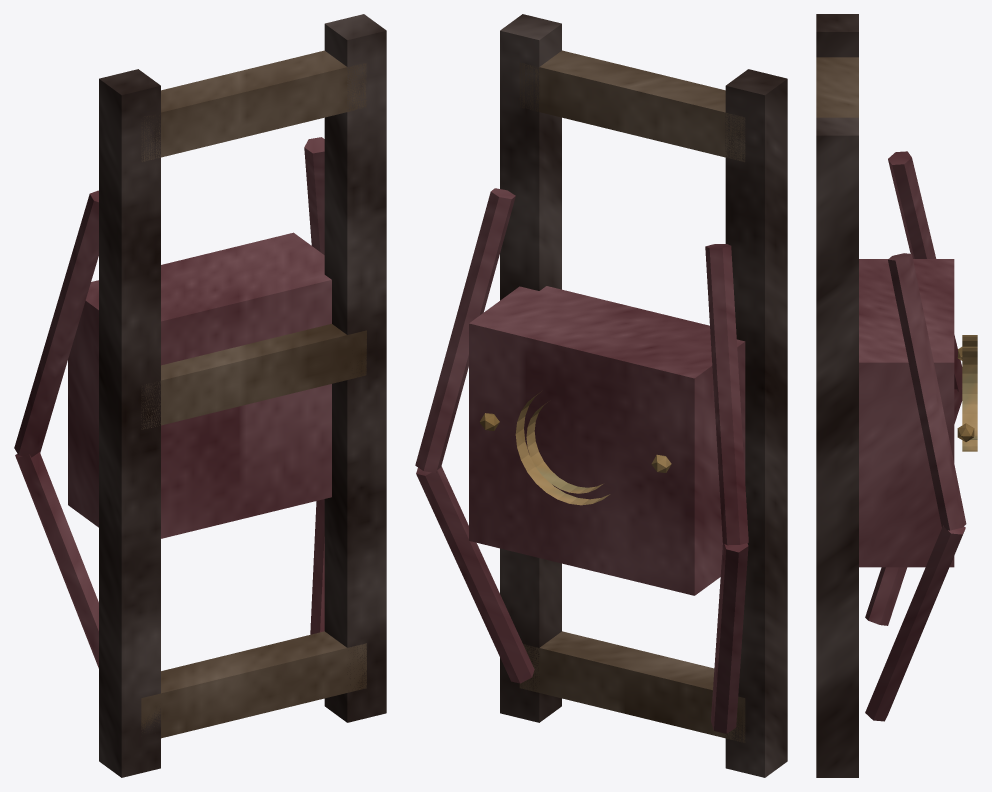
File: 0844_carrier_frame_19.glb
3 renders of one model, left to right at view 1: azimuth 30°, elevation 25°; view 2: azimuth 150°, elevation 25°; view 3: azimuth 270°, elevation 25°, orthographic. The views are drawn at different scales.
Visible parts, largest first — view 1: wood_dark, cloth, wood; view 2: cloth, wood_dark, wood, brass; view 3: cloth, wood_dark, wood, brass.
Boxes of the visible parts, bbox=[...] form: wood_dark: bbox=[99, 14, 386, 777]; cloth: bbox=[14, 137, 331, 668]; wood: bbox=[141, 50, 366, 738]; cloth: bbox=[415, 188, 748, 733]; wood_dark: bbox=[500, 14, 787, 777]; wood: bbox=[519, 50, 745, 742]; brass: bbox=[479, 391, 671, 505]; cloth: bbox=[859, 151, 966, 721]; wood_dark: bbox=[816, 14, 858, 777]; wood: bbox=[816, 57, 858, 117]; brass: bbox=[957, 335, 977, 451].
Bounding box in the file's own units: 0.921 × 1.82 × 0.415.
4 materials, 4 textured.
